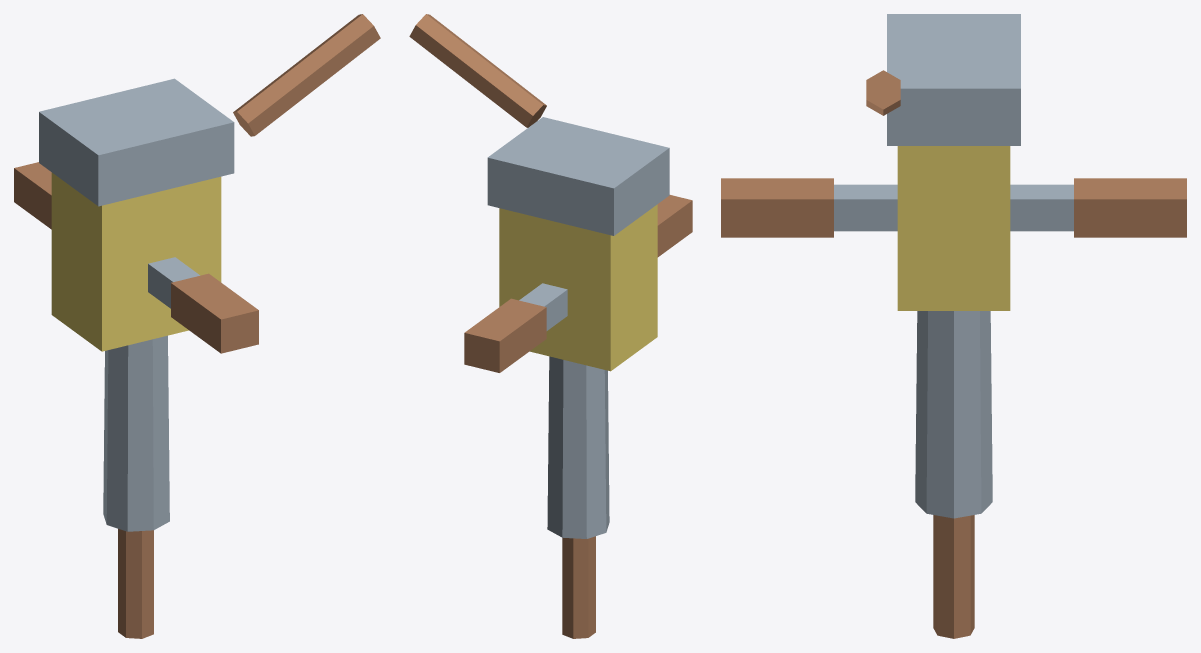
File: wipe-day-survival-island-jackhammer-88d9edf7__27492.glb
The picture shows the model from 3 angles, left to right: view 1: azimuth 30°, elevation 25°; view 2: azimuth 150°, elevation 25°; view 3: azimuth 270°, elevation 25°; orthographic projection. The views are drawn at different scales.
Parts seen in each view (by area): view 1: jackhammer; view 2: jackhammer; view 3: jackhammer.
Boxes of the visible parts, x1,y1,x2,y2 form: jackhammer: (14, 14, 380, 638); jackhammer: (409, 14, 692, 638); jackhammer: (721, 14, 1186, 638).
Bounding box in the file's own units: 0.5094 × 1.04 × 0.66.
